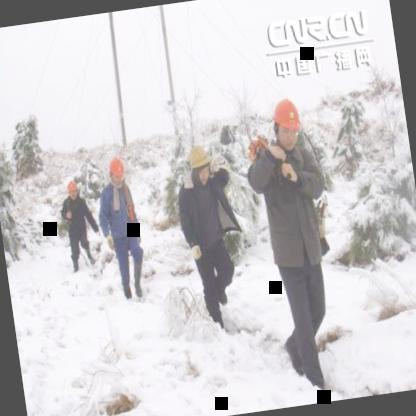helmet: (266, 93, 307, 153), (182, 138, 216, 185), (104, 152, 128, 188), (64, 176, 81, 200)
